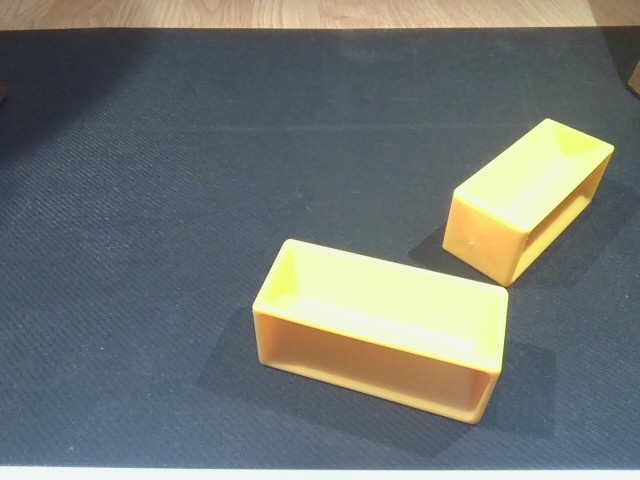YellowSample: (248, 233, 512, 426), (436, 116, 617, 288)
